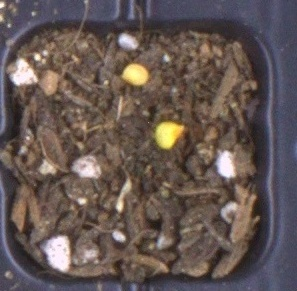chilli seed: (154, 121, 186, 151), (121, 63, 149, 86)
